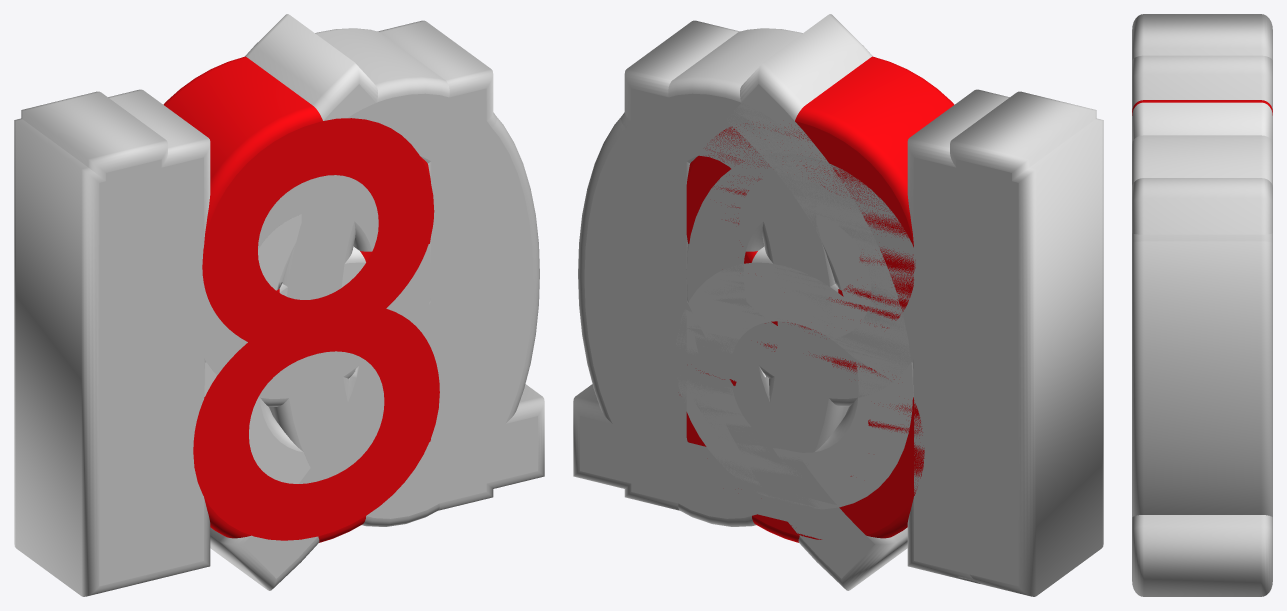
The model's file is num_6 2.glb.
3 views of the same model, side by side, from view 1: azimuth 30°, elevation 25°; view 2: azimuth 150°, elevation 25°; view 3: azimuth 270°, elevation 25° (orthographic). The views are drawn at different scales.
Parts seen in each view (by area): view 1: Text.006, Text.005, Text.004; view 2: Text.006, Text.004, Text.005; view 3: Text.006, Text.004, Text.005.
Boxes of the visible parts, x1,y1,x2,y2 form: Text.006: [14, 20, 544, 596]; Text.005: [163, 56, 439, 542]; Text.004: [204, 14, 429, 483]; Text.006: [573, 20, 1103, 596]; Text.004: [676, 14, 913, 509]; Text.005: [686, 56, 954, 542]; Text.006: [1132, 14, 1272, 596]; Text.004: [1132, 102, 1272, 143]; Text.005: [1132, 100, 1272, 115].
Bounding box in the file's own units: 0.8161 × 0.8563 × 0.24.
